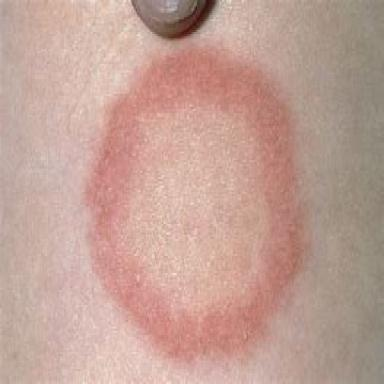Tinea-Corporis: (88, 48, 304, 359)
